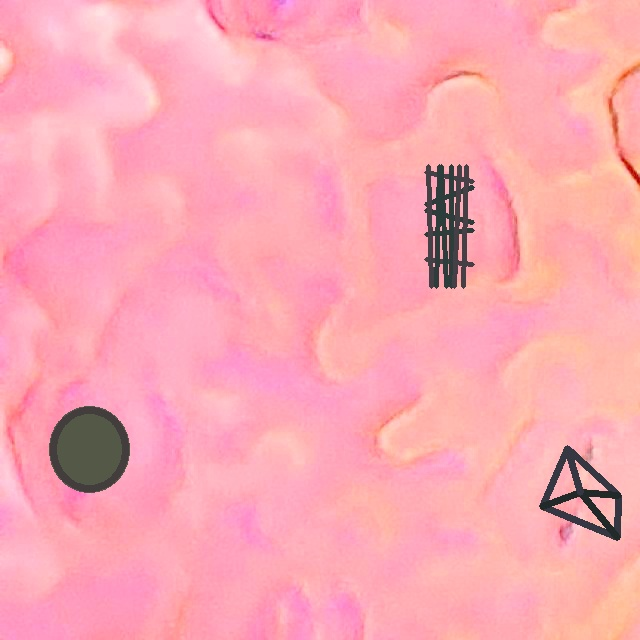close: (425, 164, 474, 288)
open: (539, 445, 621, 540), (50, 406, 129, 492)
